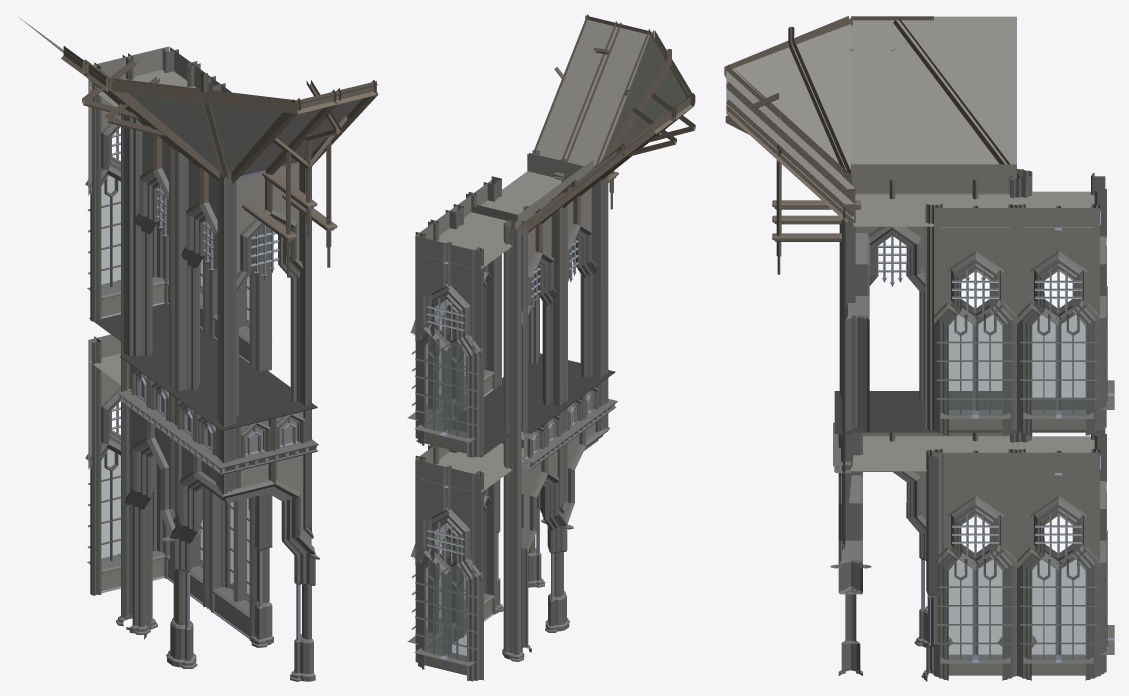
File: Corner_Tile_02.fbx
3 renders of one model, left to right at view 1: azimuth 30°, elevation 25°; view 2: azimuth 150°, elevation 25°; view 3: azimuth 270°, elevation 25°, orthographic. The views are drawn at different scales.
Parts seen in each view (by area): view 1: polySurface627, polySurface361, polySurface368, pCube541, polySurface412, polySurface360, polySurface359, pCube370, polySurface278, polySurface343, polySurface307, polySurface427 (+48 smaller); view 2: pCube342, polySurface412, polySurface368, pCube572, pCube519, polySurface447, polySurface393, polySurface361, pCube541, polySurface370, polySurface307, polySurface343 (+40 smaller); view 3: pCube469, pCube405, pCube541, pCube503, pCube415, pCube489, polySurface627, pCube344, polySurface324, polySurface379, polySurface388, polySurface262 (+43 smaller).
Boxes of the visible parts, x1,y1,x2,y2 form: polySurface627: [162, 411, 319, 681]; polySurface361: [217, 172, 236, 493]; polySurface368: [125, 377, 200, 663]; pCube541: [129, 89, 295, 173]; polySurface412: [116, 115, 157, 629]; polySurface360: [173, 149, 188, 523]; polySurface359: [299, 156, 313, 538]; pCube370: [187, 368, 317, 427]; polySurface278: [236, 209, 303, 415]; polySurface343: [181, 202, 217, 390]; polySurface307: [132, 168, 168, 356]; polySurface427: [123, 116, 133, 355]; pCube342: [534, 19, 652, 166]; polySurface412: [502, 220, 524, 661]; polySurface368: [521, 422, 573, 652]; pCube572: [415, 459, 481, 581]; pCube519: [415, 236, 481, 357]; polySurface447: [413, 507, 483, 680]; polySurface393: [413, 283, 483, 457]; polySurface361: [592, 165, 608, 430]; pCube541: [608, 34, 689, 148]; polySurface370: [551, 198, 564, 513]; polySurface307: [521, 251, 557, 430]; polySurface343: [568, 223, 597, 377]; pCube469: [934, 16, 1016, 164]; pCube405: [851, 20, 933, 164]; pCube541: [732, 18, 850, 170]; pCube503: [1017, 452, 1099, 568]; pCube415: [934, 208, 1016, 323]; pCube489: [1017, 208, 1099, 323]; polySurface627: [830, 432, 927, 675]; pCube344: [934, 452, 1016, 568]; polySurface324: [934, 251, 1016, 435]; polySurface379: [1017, 495, 1099, 680]; polySurface388: [1017, 251, 1099, 435]; polySurface262: [934, 495, 1016, 680].
Size of the model in its own units: 10.74 by 31.81 by 18.8.
